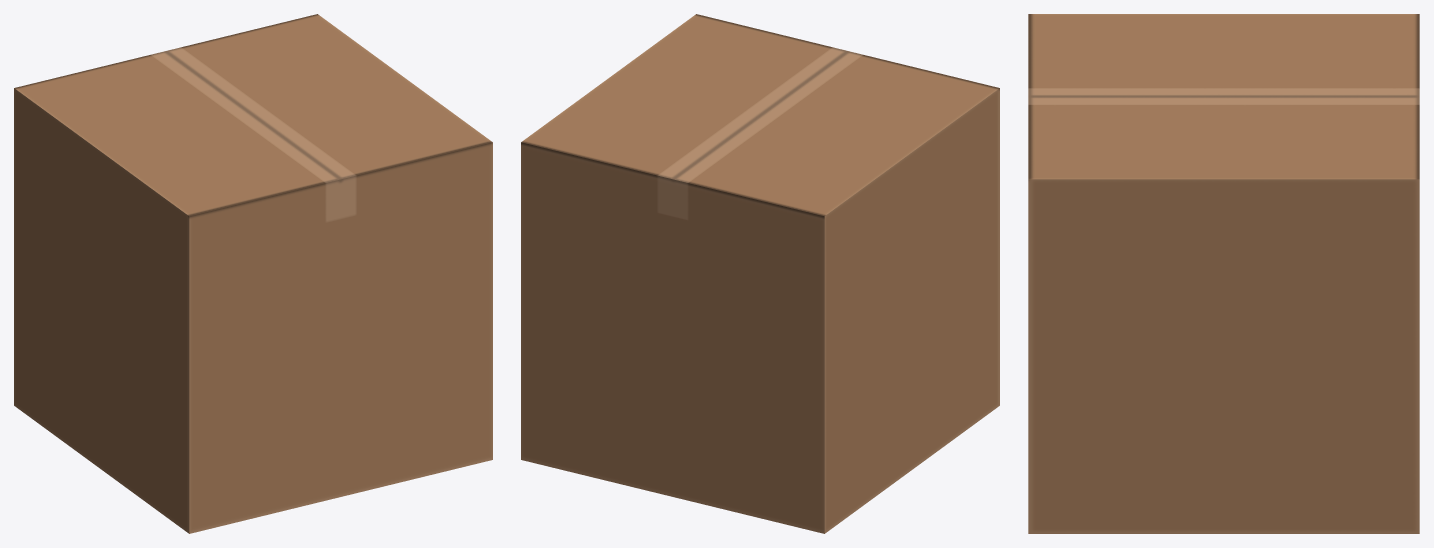
Rendered from Box_Closed.fbx.
3 renders of one model, left to right at view 1: azimuth 30°, elevation 25°; view 2: azimuth 150°, elevation 25°; view 3: azimuth 270°, elevation 25°, orthographic. The views are drawn at different scales.
Visible parts, largest first — view 1: Cardboard_Box; view 2: Cardboard_Box; view 3: Cardboard_Box.
Part boxes in pixels (<box>): Cardboard_Box: <box>14,14,492,533</box>; Cardboard_Box: <box>521,14,999,533</box>; Cardboard_Box: <box>1028,14,1419,533</box>.
Bounding box in the file's own units: 1 × 1 × 1.
